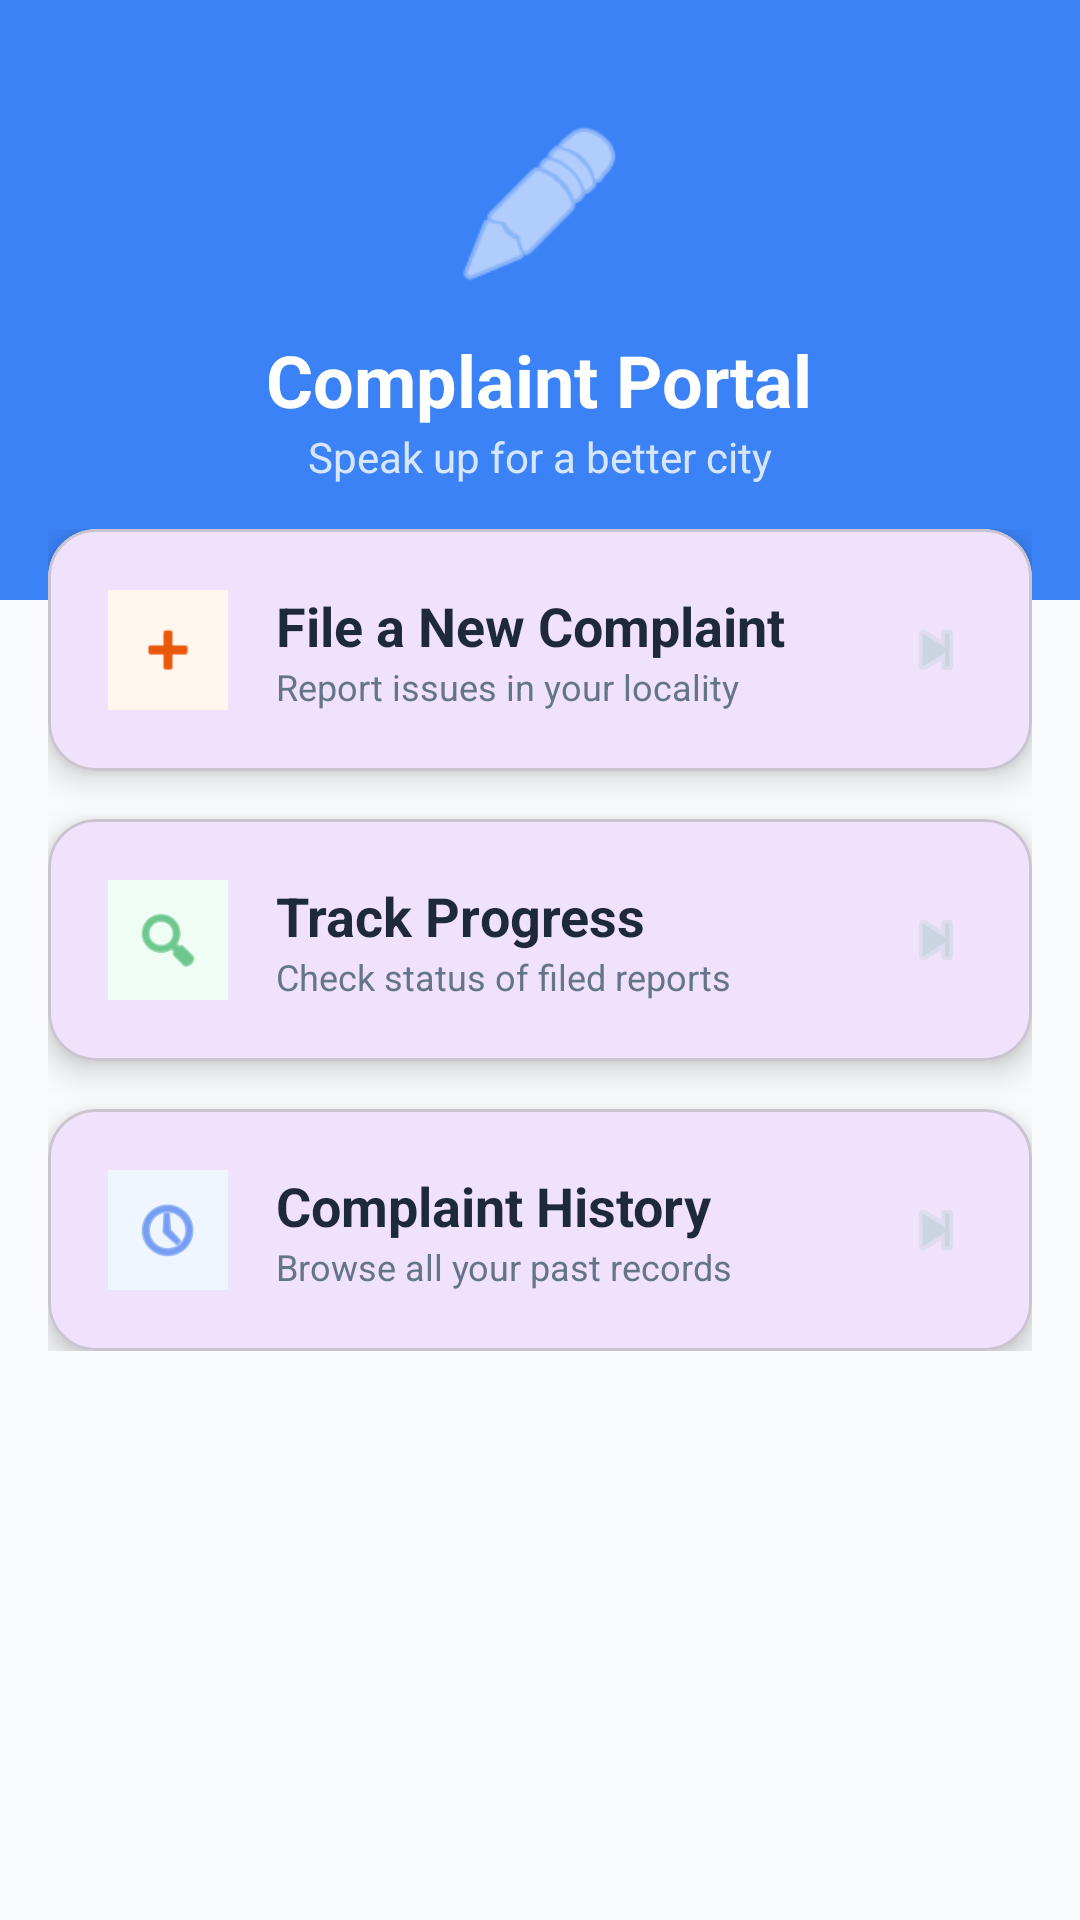

Screen size 1080px x 1920px. Icon name, then its box in pixels as (x1, y1, x2, y2):
edit: (463, 128, 615, 280)
next: (922, 633, 950, 667), (922, 923, 950, 957), (922, 1213, 950, 1247)
recent history: (142, 1204, 194, 1256)
